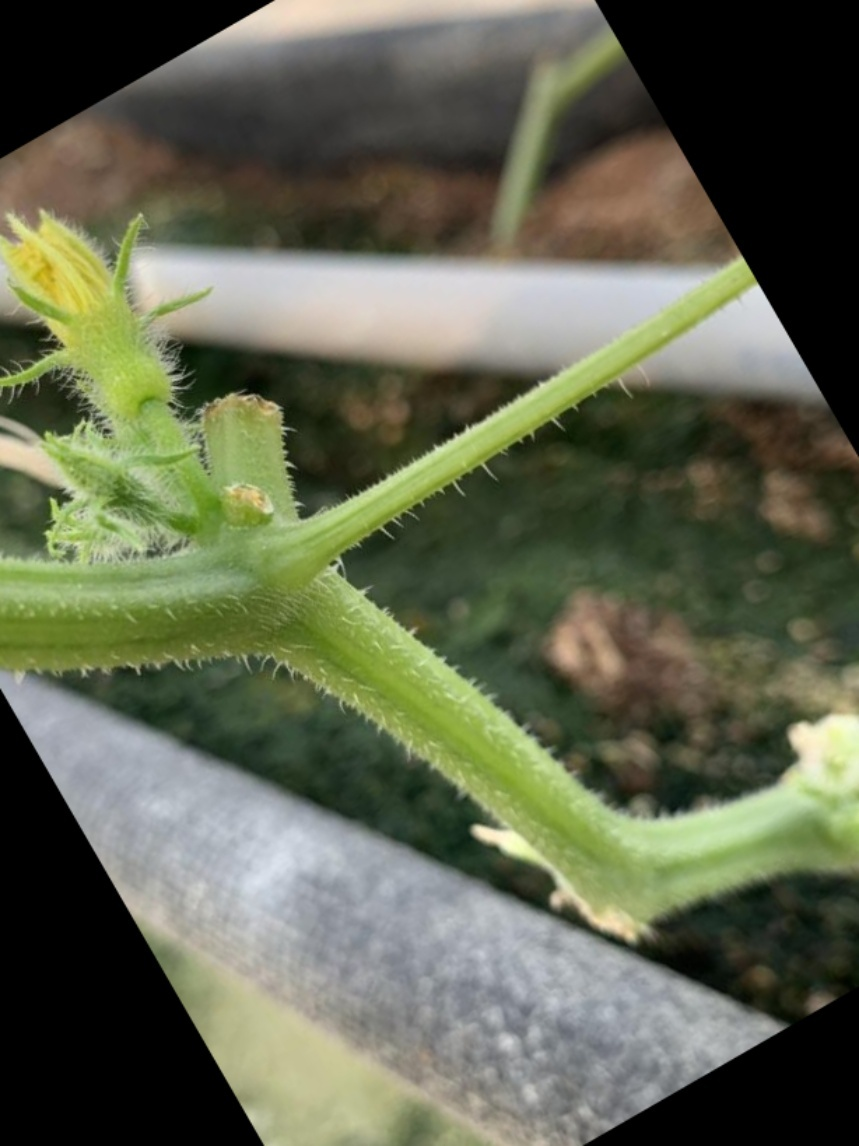bud: (0, 203, 230, 448)
